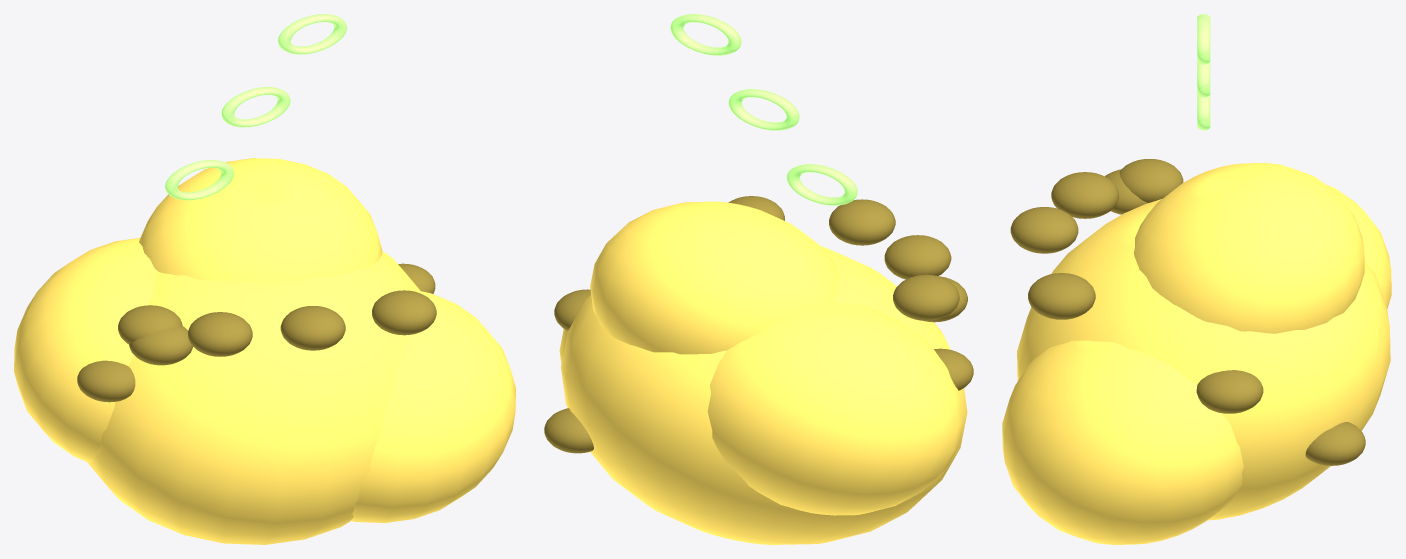
The model's file is queso_lunar.glb.
3 views of the same model, side by side, from view 1: azimuth 30°, elevation 25°; view 2: azimuth 150°, elevation 25°; view 3: azimuth 270°, elevation 25° (orthographic). The views are drawn at different scales.
Visible parts, largest first — view 1: queso_lunar; view 2: queso_lunar; view 3: queso_lunar.
Part boxes in pixels (x1,y1,x2,y2): queso_lunar: [14, 14, 515, 544]; queso_lunar: [544, 14, 973, 544]; queso_lunar: [1002, 14, 1391, 544].
Bounding box in the file's own units: 0.3675 × 0.4108 × 0.2858.
